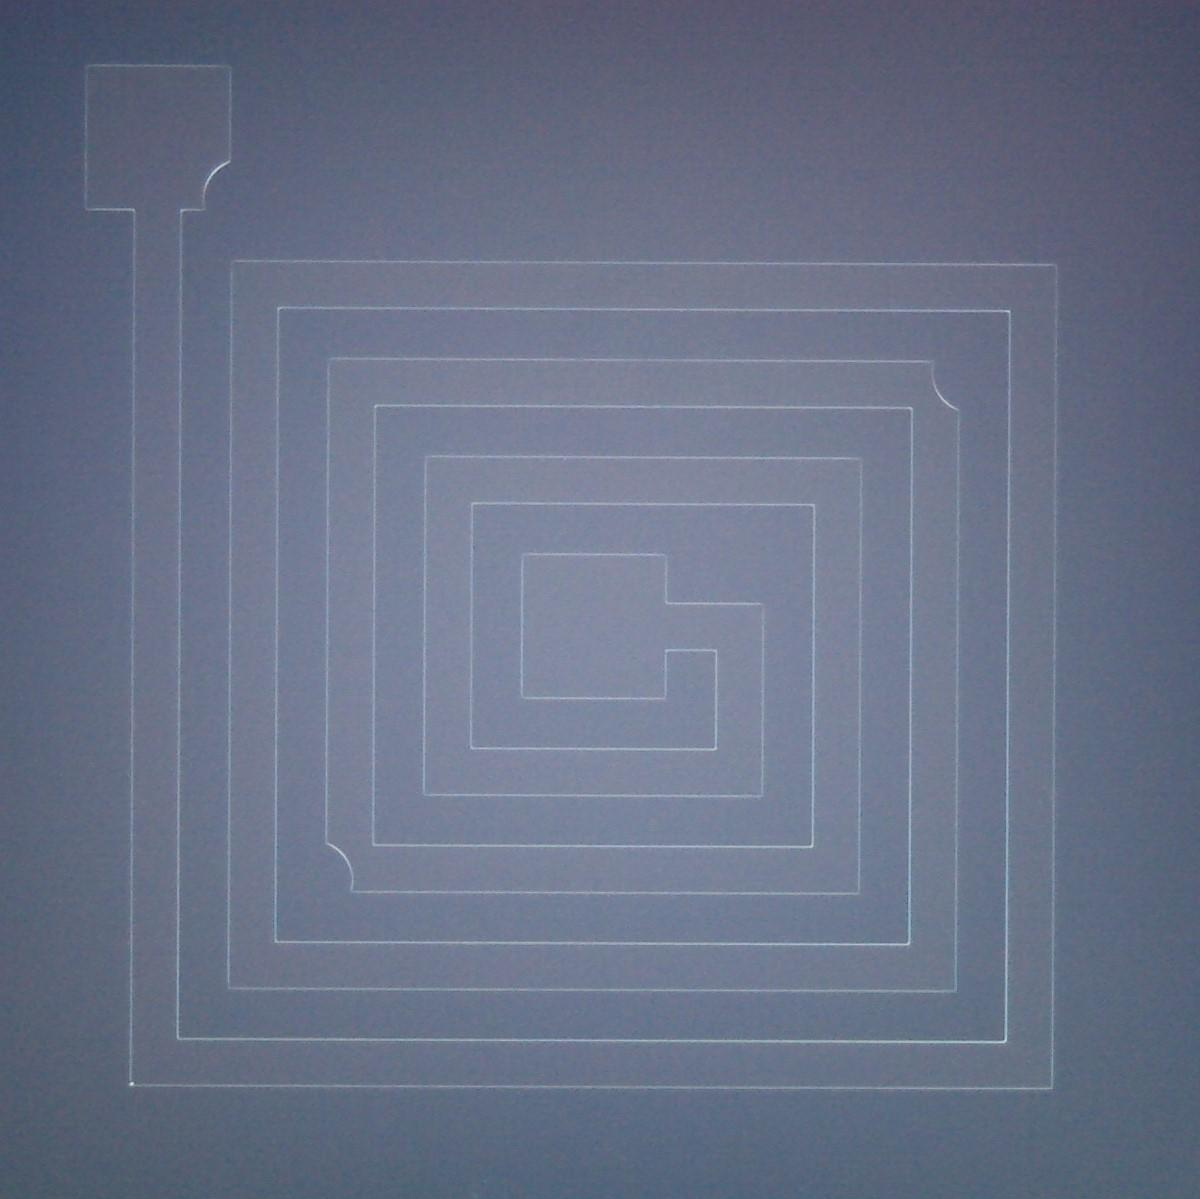cut: (883, 341, 980, 447), (311, 820, 407, 905), (164, 138, 254, 225)
s_point: (127, 1079, 137, 1090)
